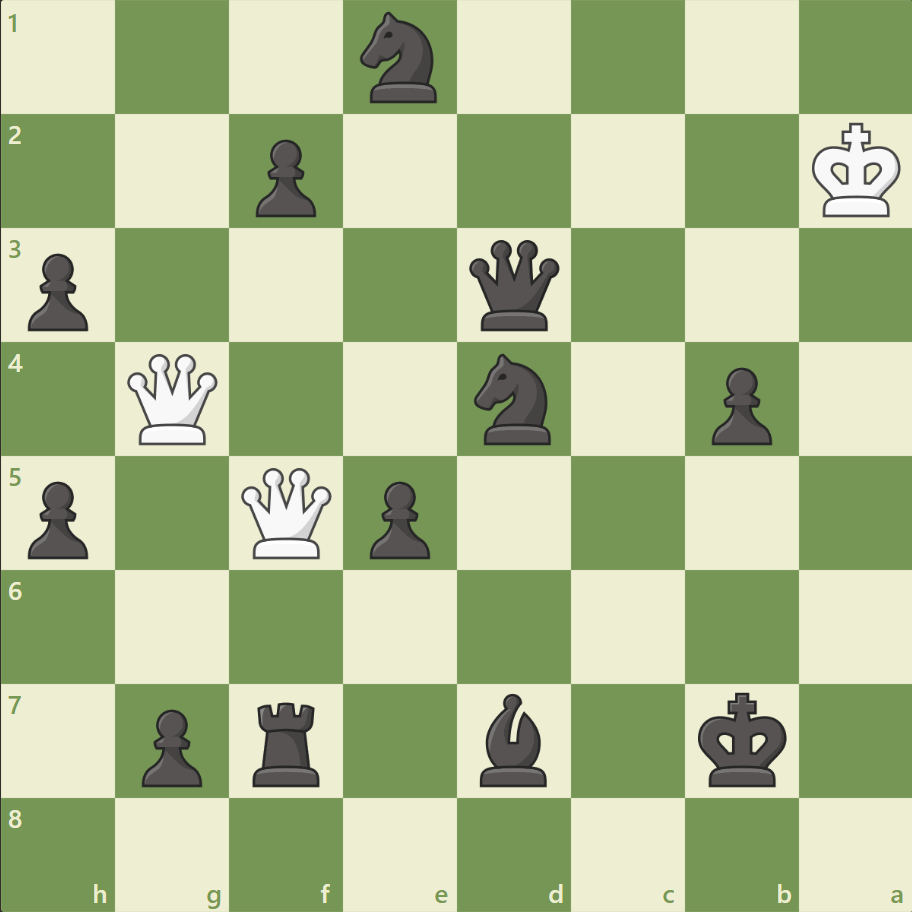K: (806, 117, 906, 225)
Q: (124, 349, 223, 449), (237, 463, 336, 562)
b: (471, 687, 555, 790)
k: (692, 685, 792, 793)
n: (351, 7, 449, 110), (465, 348, 562, 450)
p: (133, 700, 208, 791), (20, 473, 95, 564), (701, 359, 776, 450), (20, 246, 95, 337), (247, 132, 322, 223), (361, 473, 435, 564)
q: (464, 236, 563, 335)
r: (246, 693, 329, 790)
